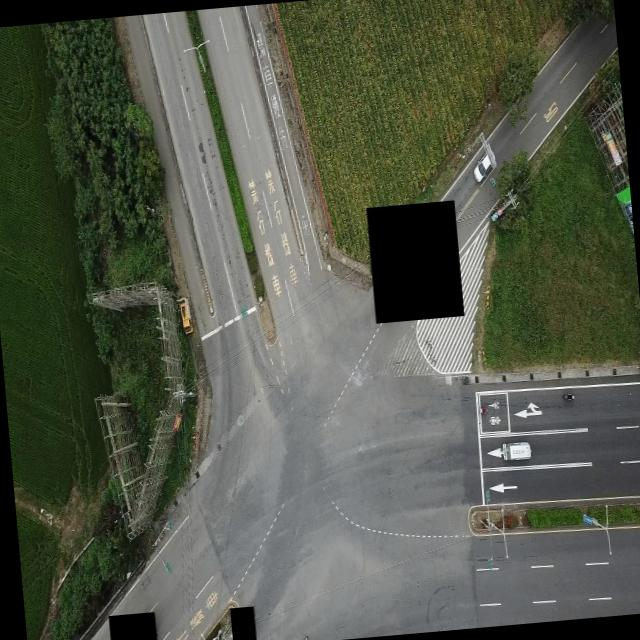car: (471, 142, 496, 184)
